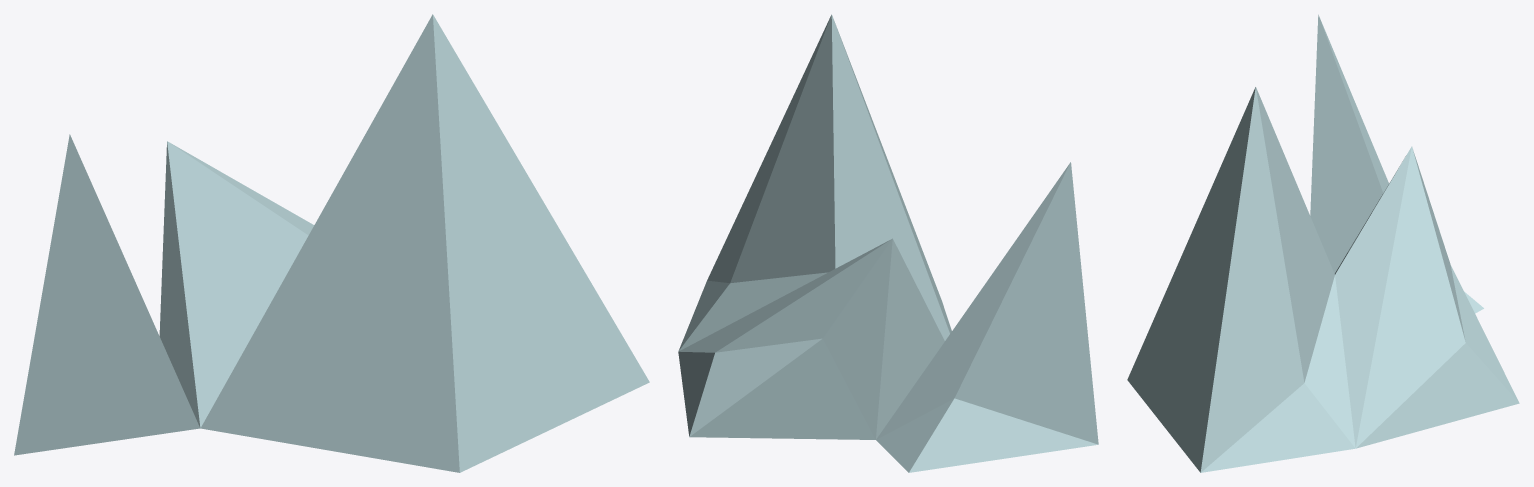
The model's file is spikes01.fbx.
The picture shows the model from 3 angles, left to right: view 1: azimuth 30°, elevation 25°; view 2: azimuth 150°, elevation 25°; view 3: azimuth 270°, elevation 25°; orthographic projection. The views are drawn at different scales.
Parts seen in each view (by area): view 1: polySurface8; view 2: polySurface8; view 3: polySurface8.
Part boxes in pixels (x1,y1,x2,y2): polySurface8: (14,14,649,472); polySurface8: (678,14,1098,472); polySurface8: (1127,14,1519,472).
Size of the model in its own units: 0.1703 by 0.1144 by 0.1295.
